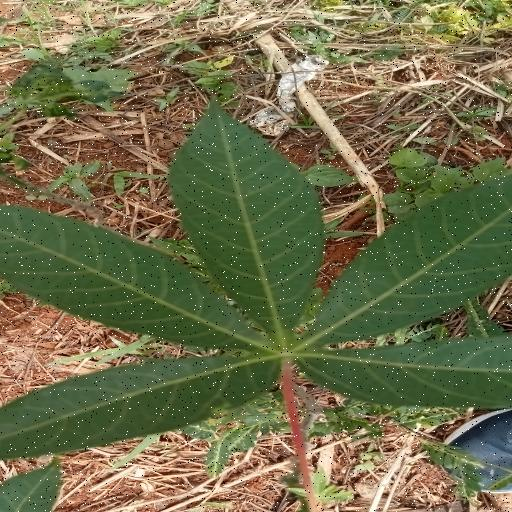Cassava_Healthy: (7, 98, 512, 454)
